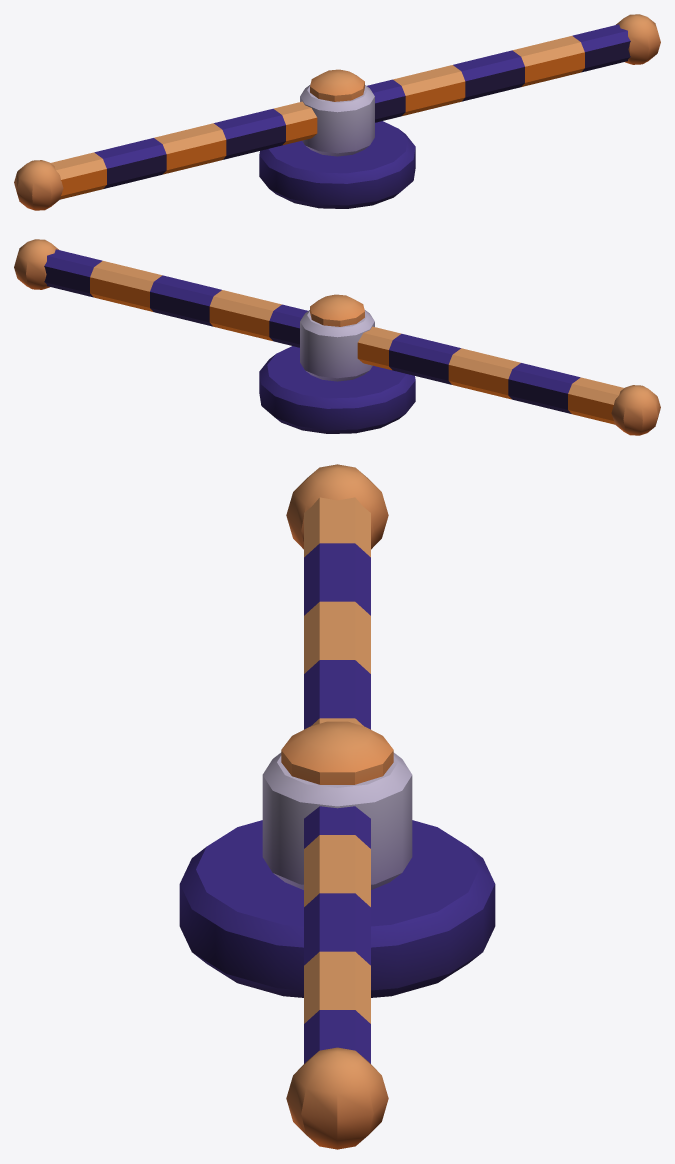
Rendered from obstacle_sweeper.glb.
3 views of the same model, one above another, from view 1: azimuth 30°, elevation 25°; view 2: azimuth 150°, elevation 25°; view 3: azimuth 270°, elevation 25° (orthographic). The views are drawn at different scales.
Parts seen in each view (by area): view 1: SweeperArm, SweeperBase; view 2: SweeperArm, SweeperBase; view 3: SweeperArm, SweeperBase.
Part boxes in pixels (x1,y1,x2,y2): SweeperArm: (14,14,660,210); SweeperBase: (259,85,415,208); SweeperArm: (14,239,660,435); SweeperBase: (259,310,415,433); SweeperArm: (281,464,393,1149); SweeperBase: (179,752,495,997).
Bounding box in the file's own units: 7.52 × 1.18 × 1.6.
